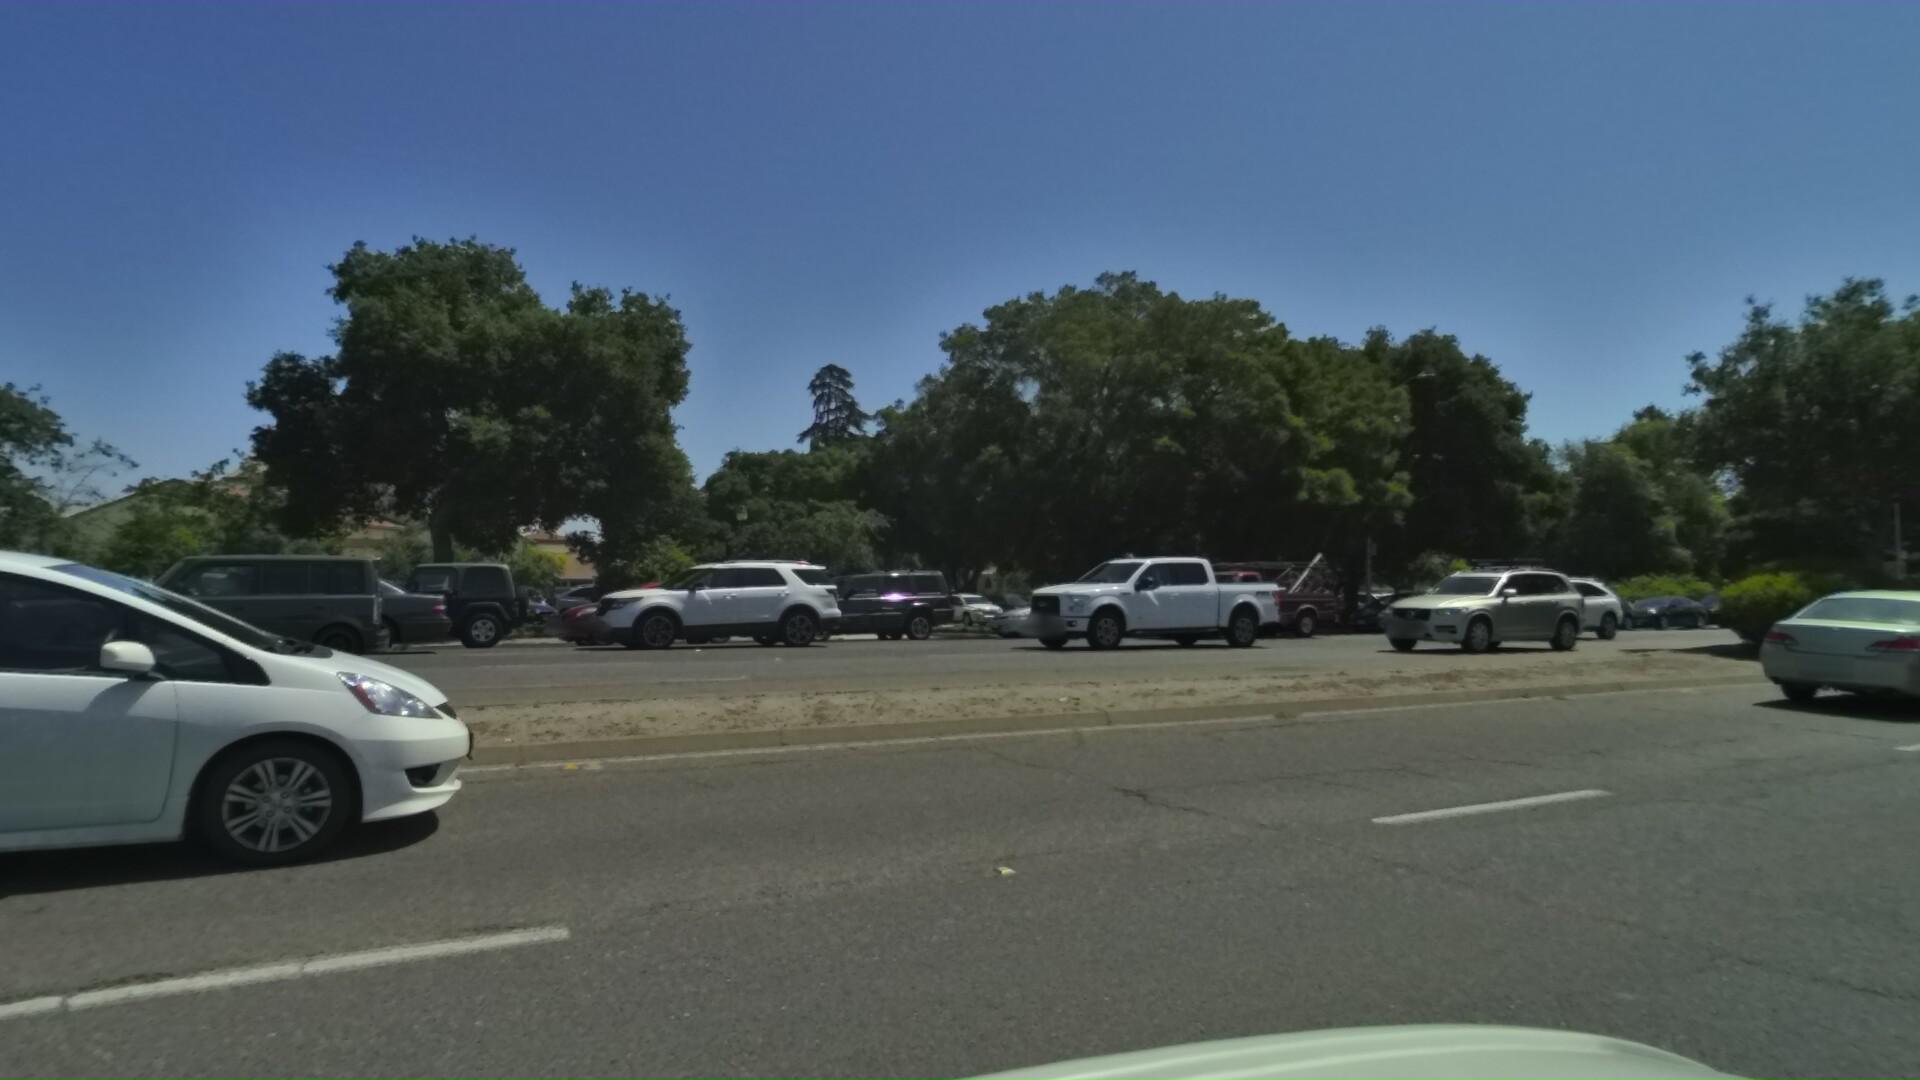car: (38, 556, 407, 659), (976, 545, 1265, 651), (553, 546, 824, 647), (266, 551, 516, 658), (1337, 549, 1575, 651), (1756, 584, 1920, 723), (1114, 541, 1331, 638), (735, 556, 938, 645), (514, 574, 737, 650), (1437, 566, 1610, 637), (956, 579, 1138, 642), (1151, 582, 1317, 637), (1315, 585, 1448, 632), (1511, 585, 1630, 632), (1586, 585, 1698, 630), (1655, 582, 1762, 625)
